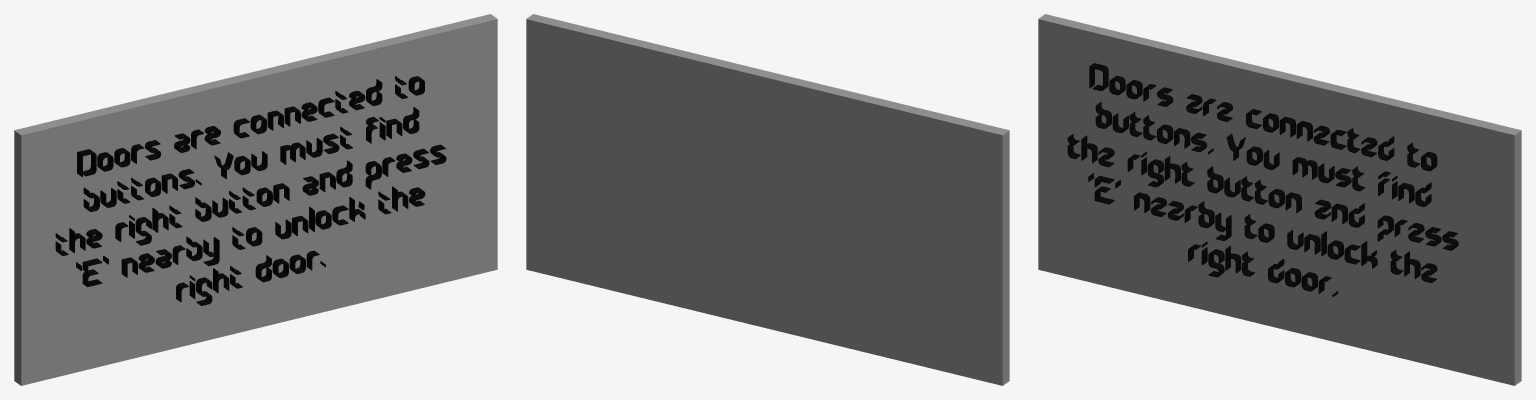
File: Cartel_Doors.fbx
3 renders of one model, left to right at view 1: azimuth 30°, elevation 25°; view 2: azimuth 150°, elevation 25°; view 3: azimuth 330°, elevation 25°, orthographic.
Visible parts, largest first — view 1: root, node_id140 (×5); view 2: root; view 3: root, node_id140 (×5).
Boxes of the visible parts, box(x1,y1,x2,y2) form: root: box(14, 14, 497, 385); node_id140 (×5): box(55, 76, 446, 305); root: box(526, 14, 1009, 385); root: box(1038, 14, 1521, 385); node_id140 (×5): box(1067, 63, 1458, 296).
Bounding box in the file's own units: 0.511 × 0.2568 × 0.022.
6 materials, 1 textured.
